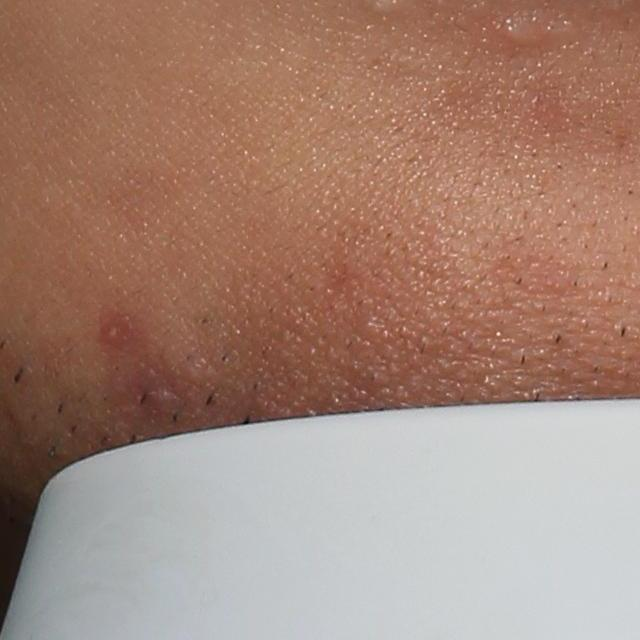hypertrophic_scar: (493, 12, 542, 54)
papule: (90, 307, 136, 354)
